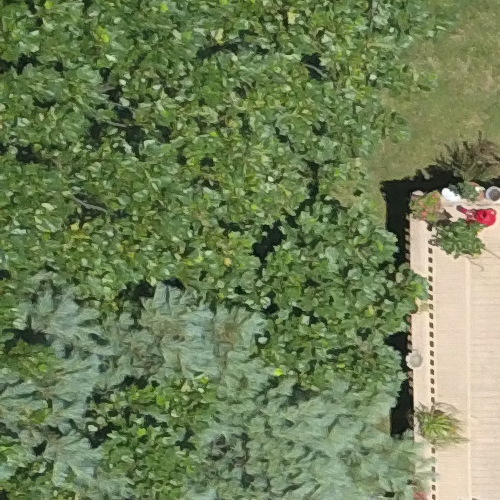container: (405, 345, 431, 382)
flower pot: (486, 183, 500, 200)
watering can: (452, 200, 500, 231)
